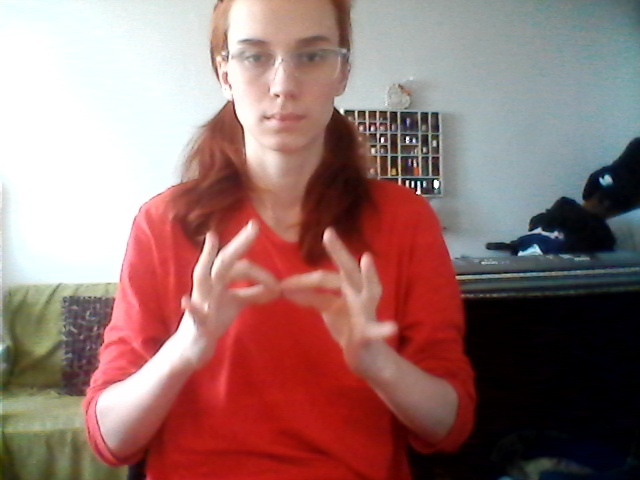b: (175, 217, 402, 379)
